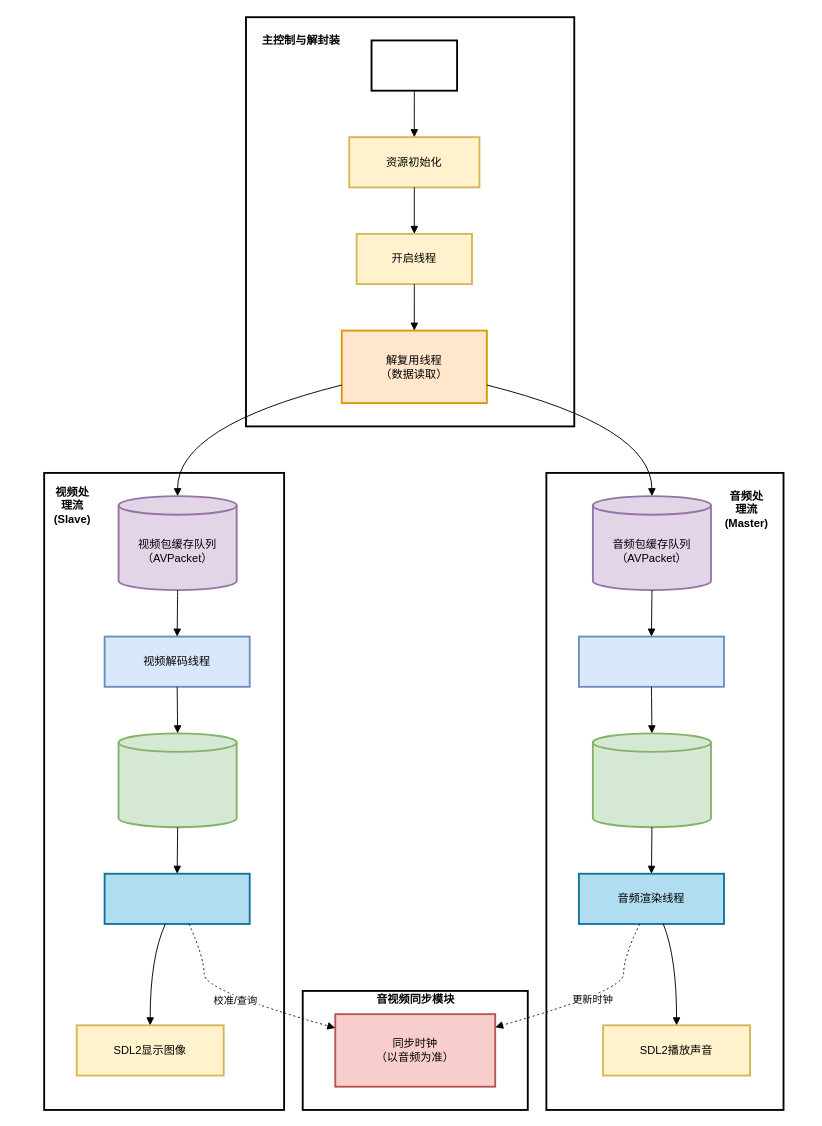
Some shapes in this 822 by 1126 pixel diagram are drawn without their labels. Each missing label, with the centre of its shape:
开始: the point at 414,65
视频帧缓存队列 （AVFrame）: the point at 177,780
视频渲染线程: the point at 176,898
音频帧缓存队列 （AVFrame）: the point at 651,780
音频解码线程: the point at 651,661
